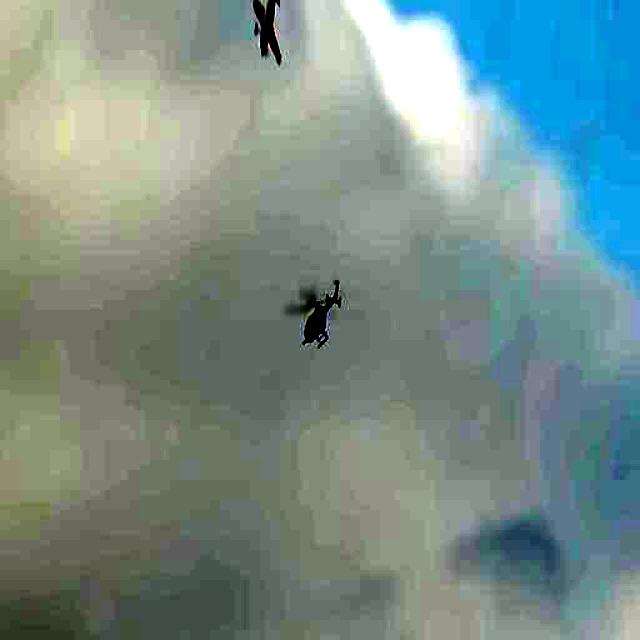drone: (289, 274, 351, 360)
